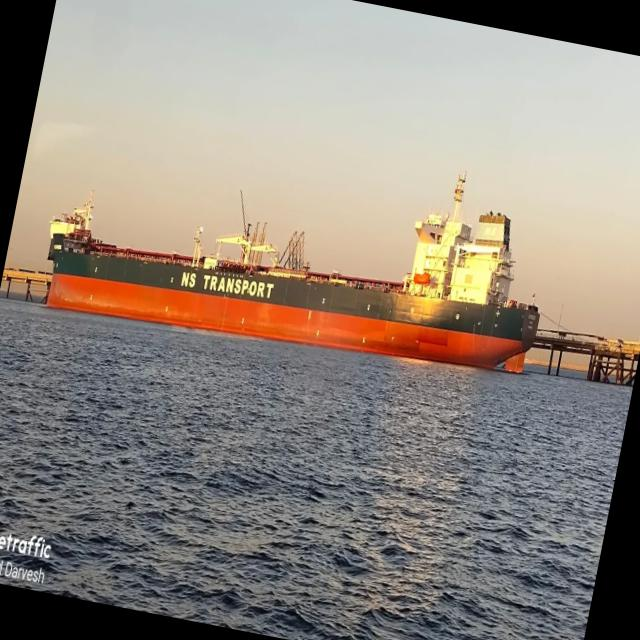Tanker: (46, 174, 540, 372)
